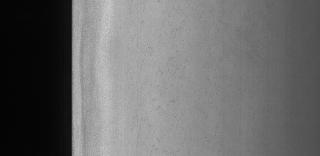silk spot: (137, 11, 220, 139)
